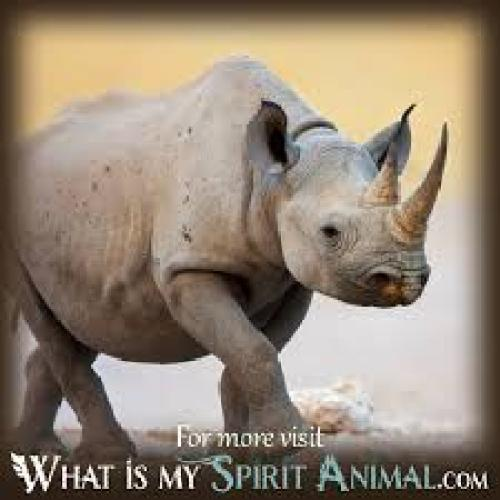rhino-endangered: (7, 66, 444, 454)
